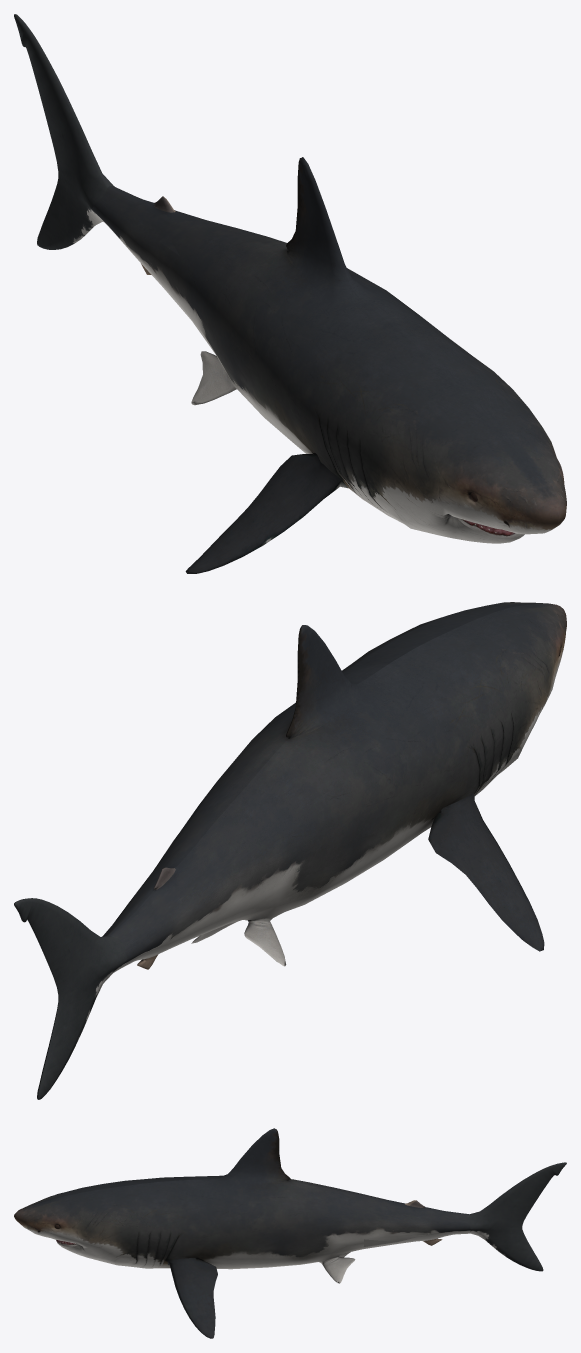
The model's file is smallShark.fbx.
3 views of the same model, one above another, from view 1: azimuth 30°, elevation 25°; view 2: azimuth 150°, elevation 25°; view 3: azimuth 270°, elevation 25° (orthographic). The views are drawn at different scales.
Parts seen in each view (by area): view 1: Shark_01SG1; view 2: Shark_01SG1; view 3: Shark_01SG1.
Part boxes in pixels (<box>): Shark_01SG1: <box>14,14,566,573</box>; Shark_01SG1: <box>14,602,566,1099</box>; Shark_01SG1: <box>14,1128,566,1338</box>.
Size of the model in its own units: 610 by 535 by 1612.
1 material, 1 textured.
